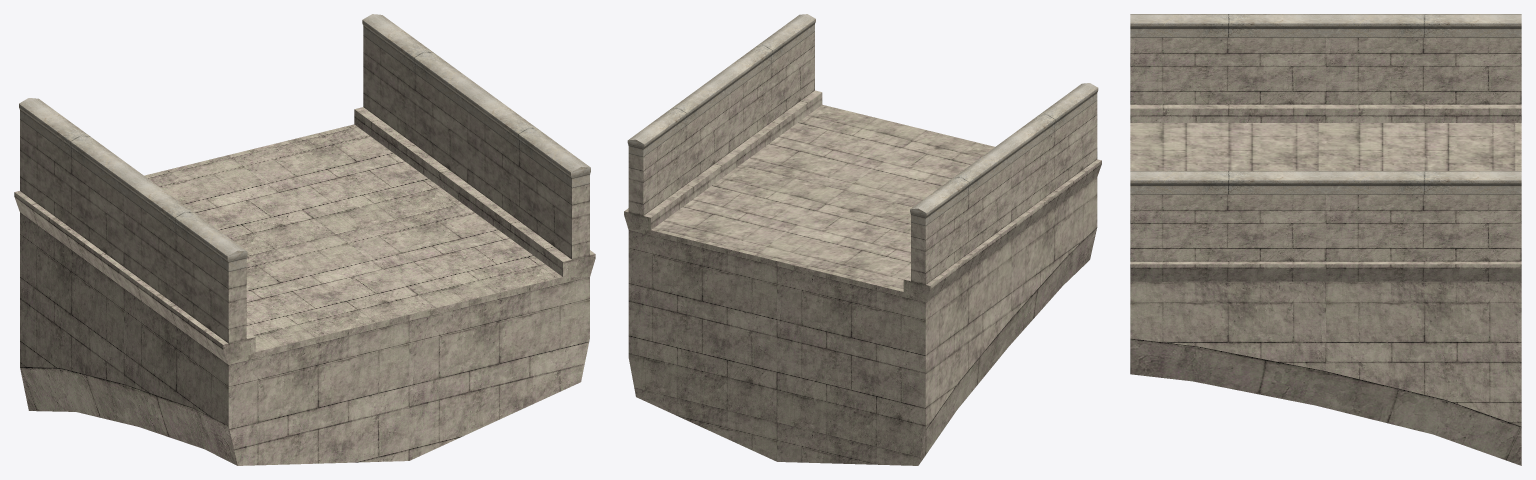
Rendered from BracingMarble.dae.
3 renders of one model, left to right at view 1: azimuth 30°, elevation 25°; view 2: azimuth 150°, elevation 25°; view 3: azimuth 270°, elevation 25°, orthographic. The views are drawn at different scales.
Parts seen in each view (by area): view 1: BracingMarble; view 2: BracingMarble; view 3: BracingMarble.
Boxes of the visible parts, box(x1,y1,x2,y2) form: BracingMarble: box(14, 14, 595, 465); BracingMarble: box(624, 14, 1101, 465); BracingMarble: box(1130, 14, 1521, 465).
Bounding box in the file's own units: 4.12 × 3.7 × 4.
2 materials, 2 textured.
